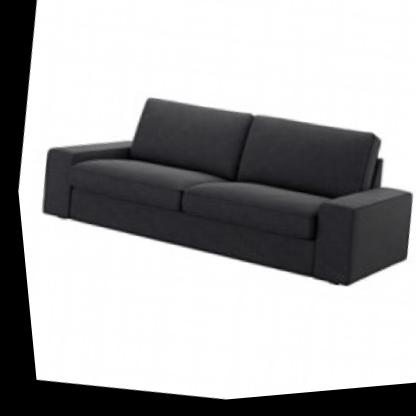Sofa: (13, 42, 416, 324)
